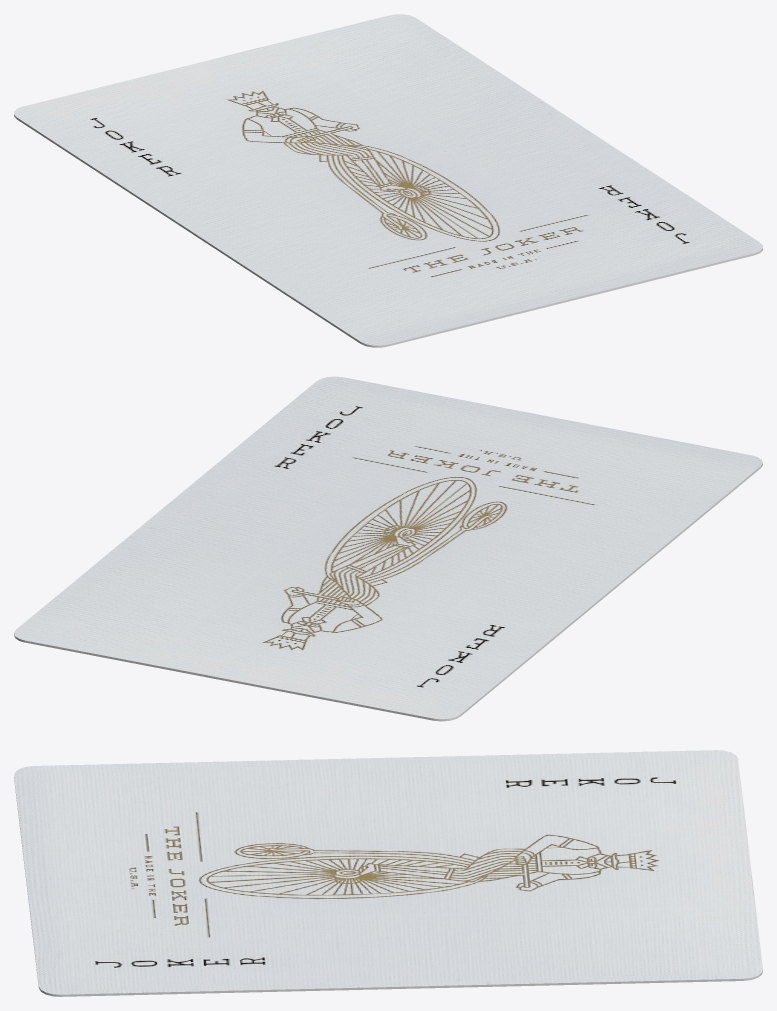
File: joker1.fbx
3 views of the same model, one above another, from view 1: azimuth 30°, elevation 25°; view 2: azimuth 150°, elevation 25°; view 3: azimuth 270°, elevation 25° (orthographic). The views are drawn at different scales.
Visible parts, largest first — view 1: Joker1_5; view 2: Joker1_5; view 3: Joker1_5.
Part boxes in pixels (x1,y1,x2,y2): Joker1_5: (14,14,762,347); Joker1_5: (14,376,762,721); Joker1_5: (14,750,762,996).
Bounding box in the file's own units: 6.68 × 0.1877 × 9.09.
